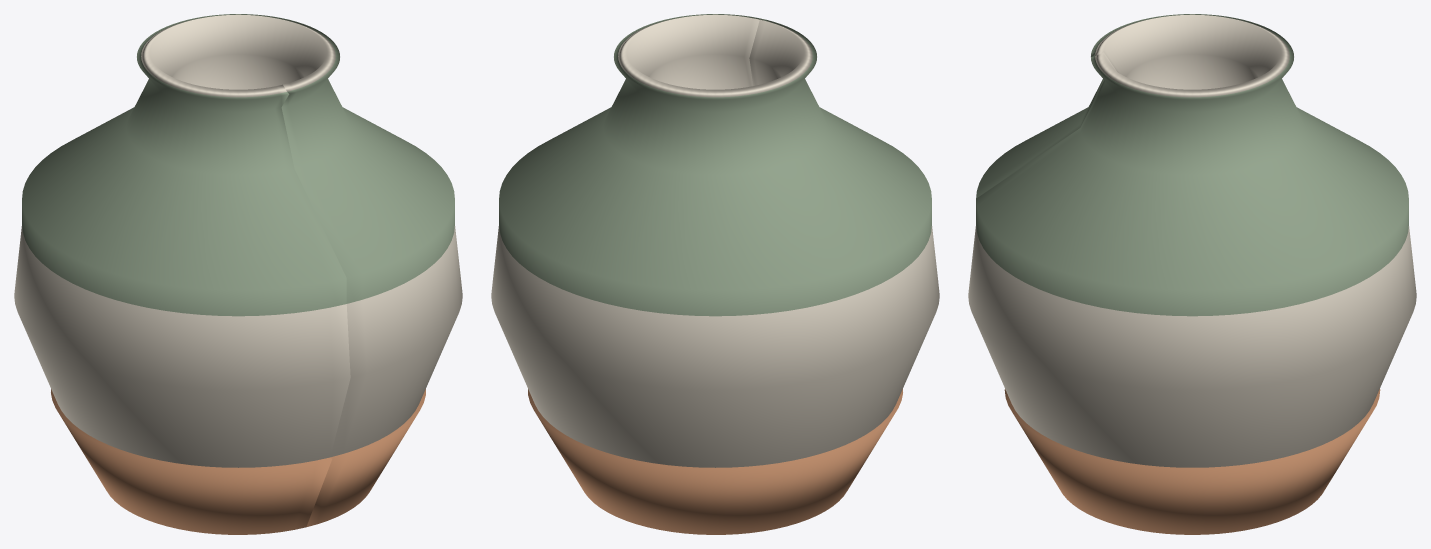
File: stoneware_pottery.glb
The picture shows the model from 3 angles, left to right: view 1: azimuth 30°, elevation 25°; view 2: azimuth 150°, elevation 25°; view 3: azimuth 270°, elevation 25°; orthographic projection.
Size of the model in its own units: 1.72 by 1.8 by 1.72.
